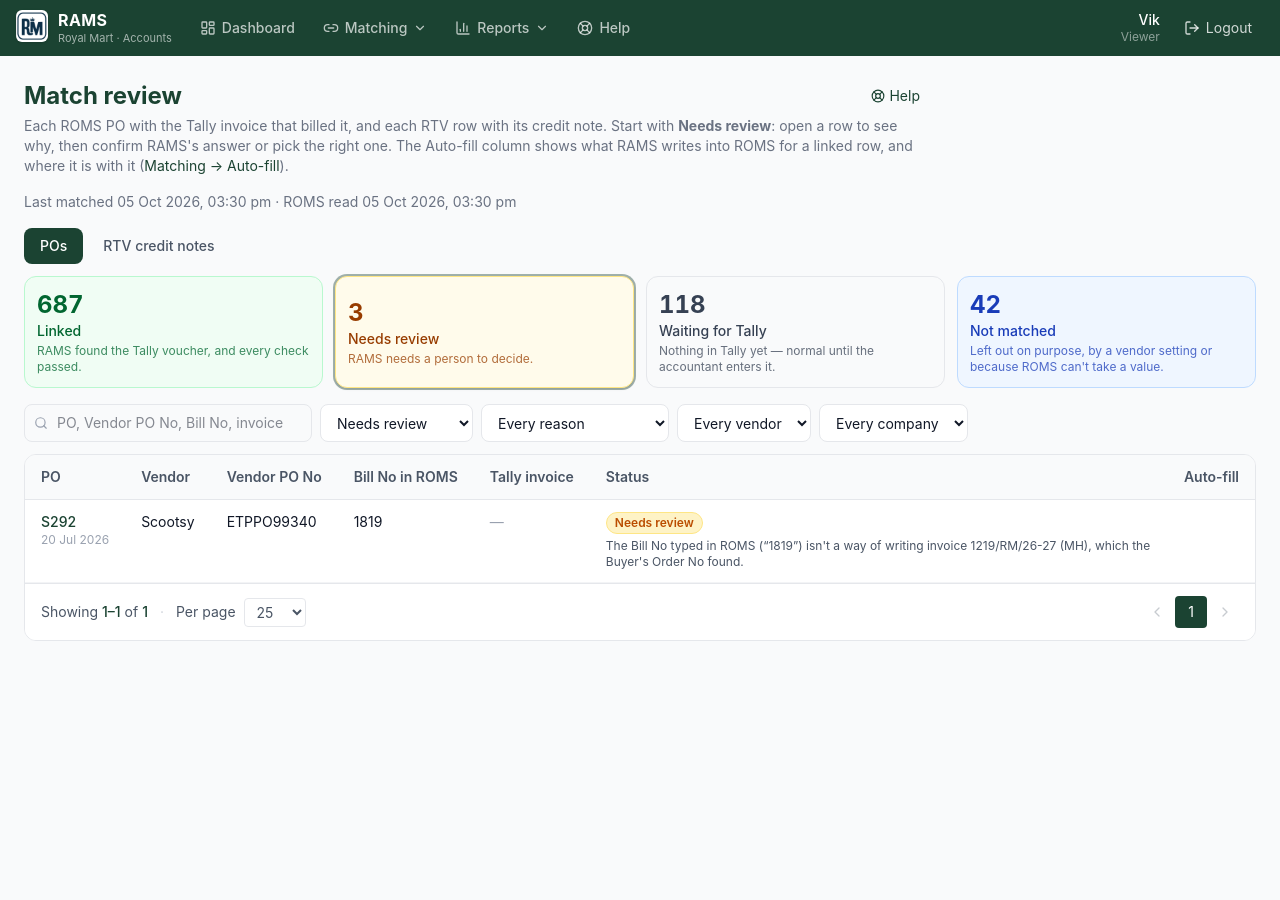
Match review › a Viewer reads, but sees no Match now and no decisions
Click the button "S292" at (59, 522), box [41, 512, 76, 532]
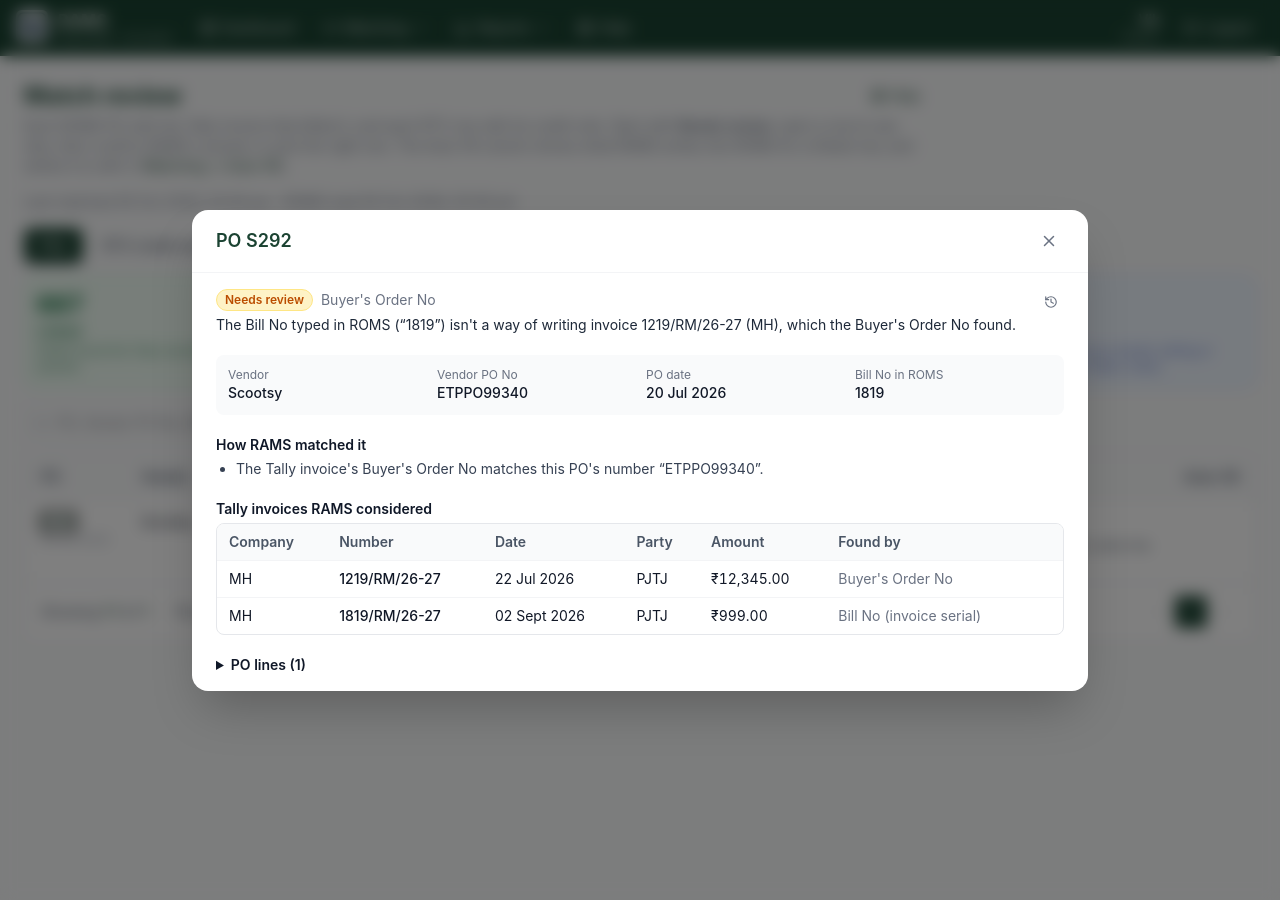
Check: the text "1219/RM/26-27" is shown, box [327, 560, 483, 597]
